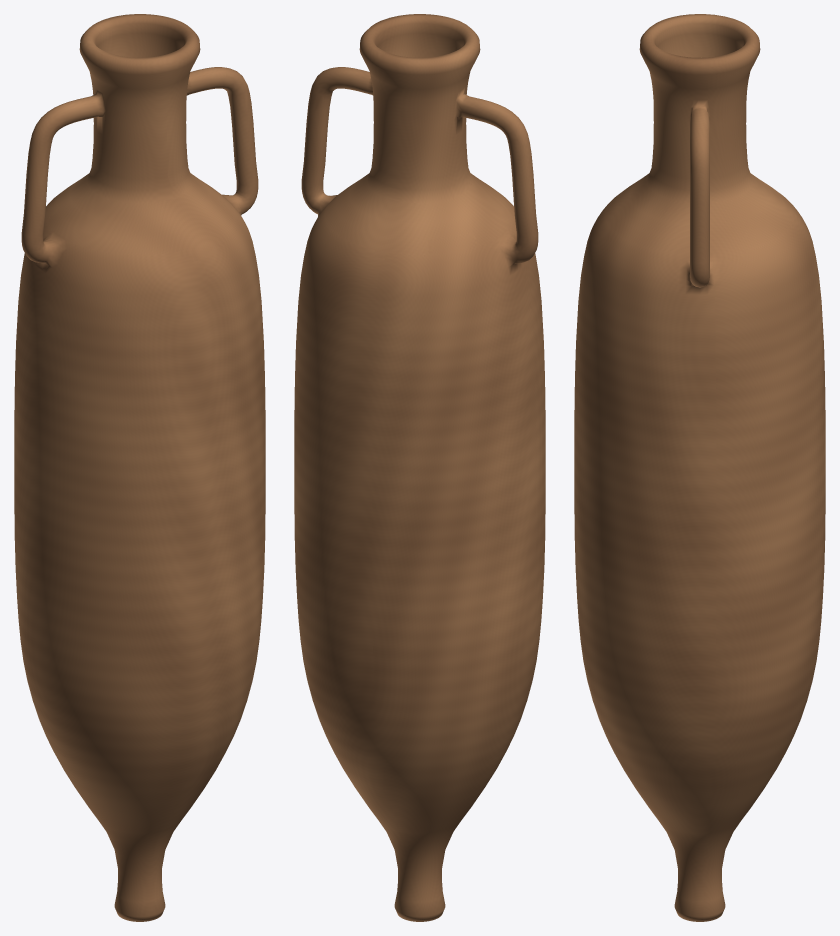
File: NEW692_Amphora_LOD1.fbx
3 renders of one model, left to right at view 1: azimuth 30°, elevation 25°; view 2: azimuth 150°, elevation 25°; view 3: azimuth 270°, elevation 25°, orthographic.
Parts seen in each view (by area): view 1: Complete_open_amphora_with_two_connected_handles; view 2: Complete_open_amphora_with_two_connected_handles; view 3: Complete_open_amphora_with_two_connected_handles.
Part boxes in pixels (x1,y1,x2,y2): Complete_open_amphora_with_two_connected_handles: (14, 14, 265, 921); Complete_open_amphora_with_two_connected_handles: (294, 14, 545, 921); Complete_open_amphora_with_two_connected_handles: (574, 14, 825, 921).
Bounding box in the file's own units: 0.3077 × 1.1 × 0.2861.
Materials: 1 (1 with a texture image).
